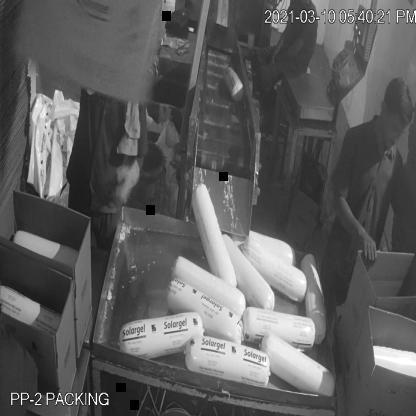glove: (105, 154, 146, 208)
no_glove: (328, 181, 378, 266), (271, 21, 307, 67), (396, 202, 416, 280)
